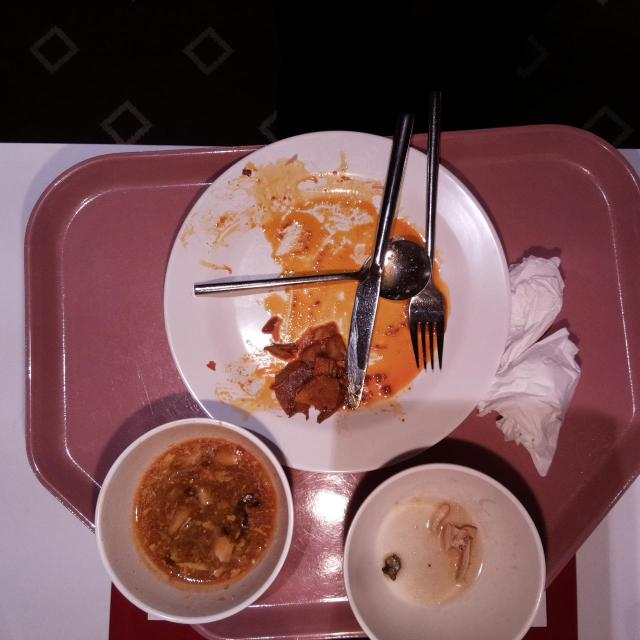Meat: (272, 360, 346, 422)
